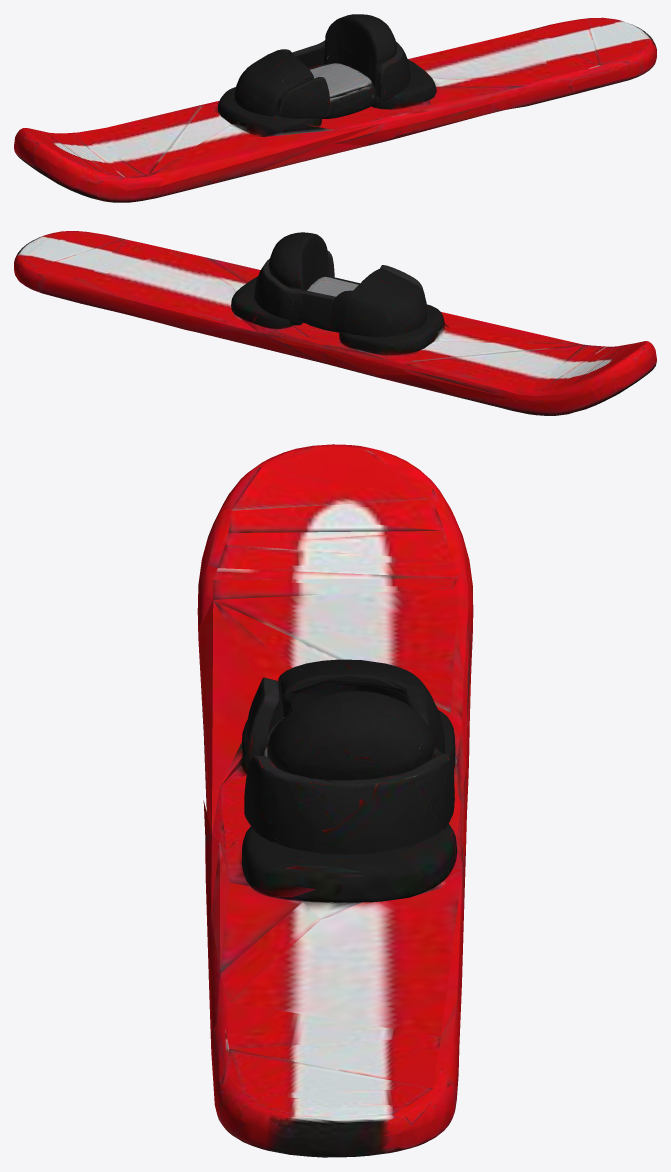
File: udstyr-ski.glb
3 renders of one model, top to bottom at view 1: azimuth 30°, elevation 25°; view 2: azimuth 150°, elevation 25°; view 3: azimuth 270°, elevation 25°, orthographic. The views are drawn at different scales.
Bounding box in the file's own units: 1.9 × 0.2834 × 0.3642.
1 material, 1 textured.
